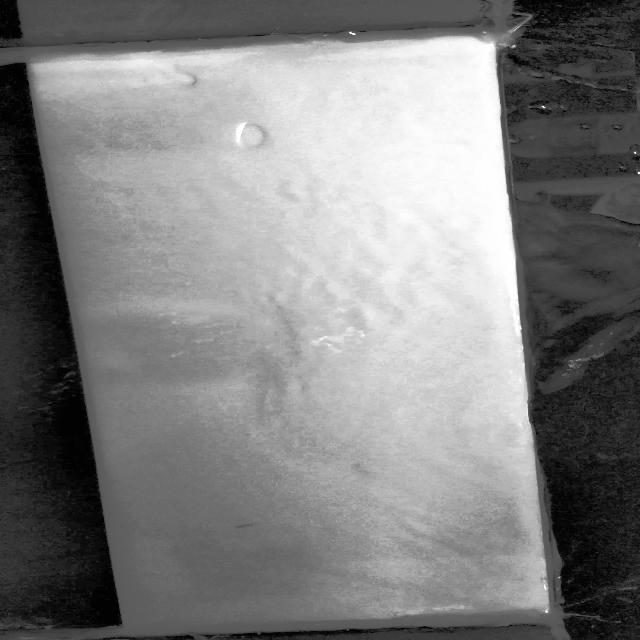shrimp: (215, 516, 264, 532)
